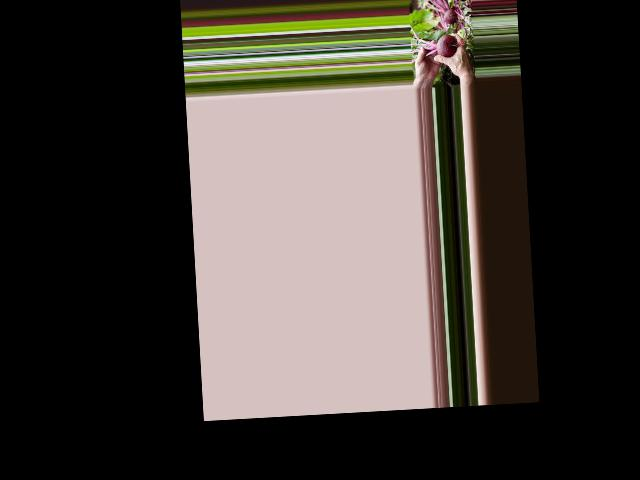beet: (409, 21, 458, 60)
